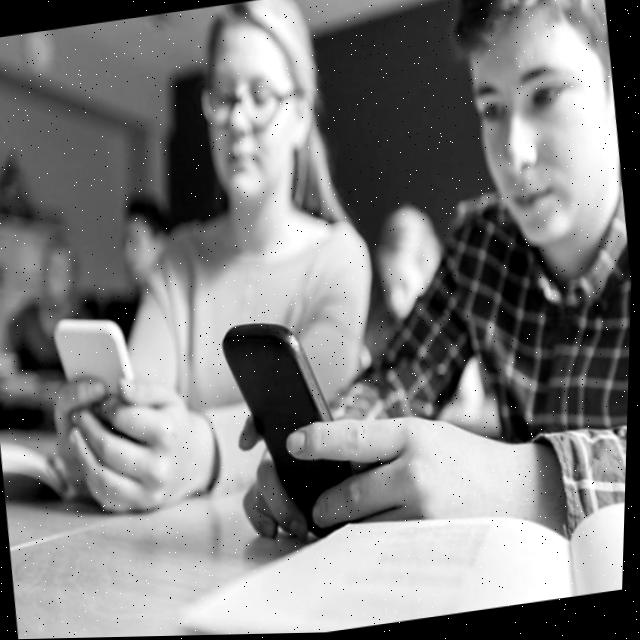phone: (209, 307, 373, 551), (48, 307, 141, 408)
